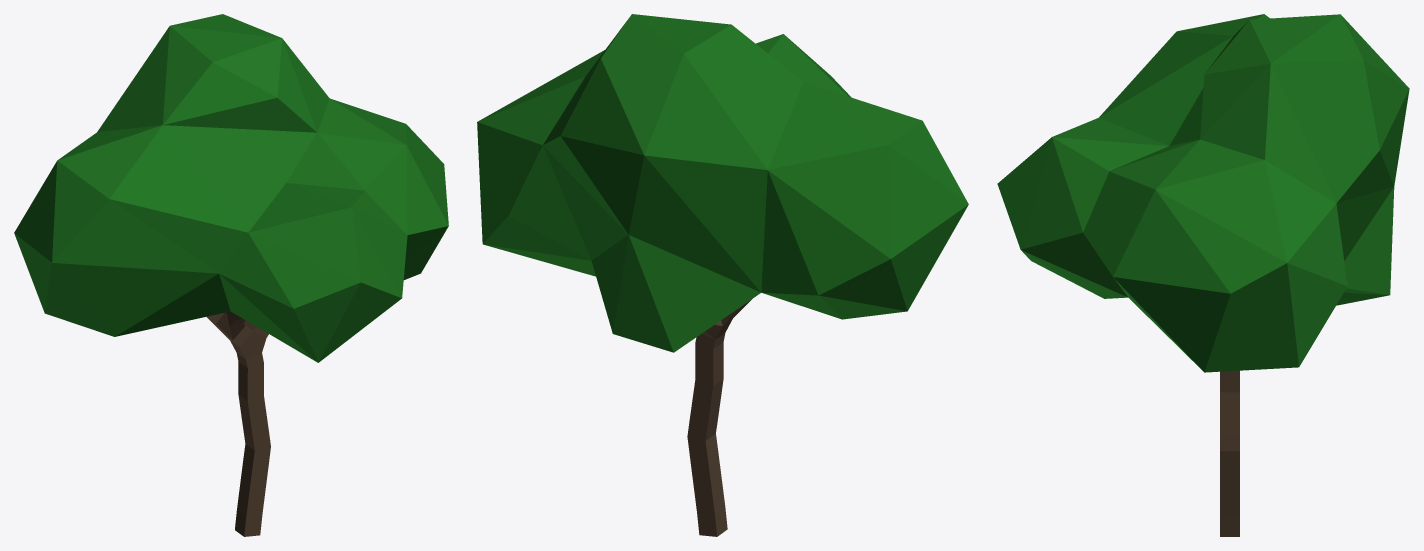
The model's file is Tree_lowpoly.fbx.
The picture shows the model from 3 angles, left to right: view 1: azimuth 30°, elevation 25°; view 2: azimuth 150°, elevation 25°; view 3: azimuth 270°, elevation 25°; orthographic projection. The views are drawn at different scales.
Parts seen in each view (by area): view 1: Mball.008, Vert; view 2: Mball.008, Vert; view 3: Mball.008, Vert.
Boxes of the visible parts, x1=… form: Mball.008: x1=14, y1=14, x2=448, y2=362; Vert: x1=206, y1=311, x2=270, y2=536; Mball.008: x1=477, y1=14, x2=968, y2=352; Vert: x1=687, y1=299, x2=751, y2=536; Mball.008: x1=997, y1=14, x2=1409, y2=372; Vert: x1=1220, y1=370, x2=1239, y2=536.
Bounding box in the file's own units: 786 × 873 × 645.
